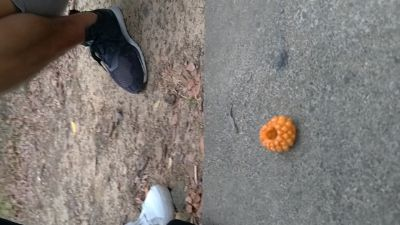eggs: (260, 115, 296, 153)
